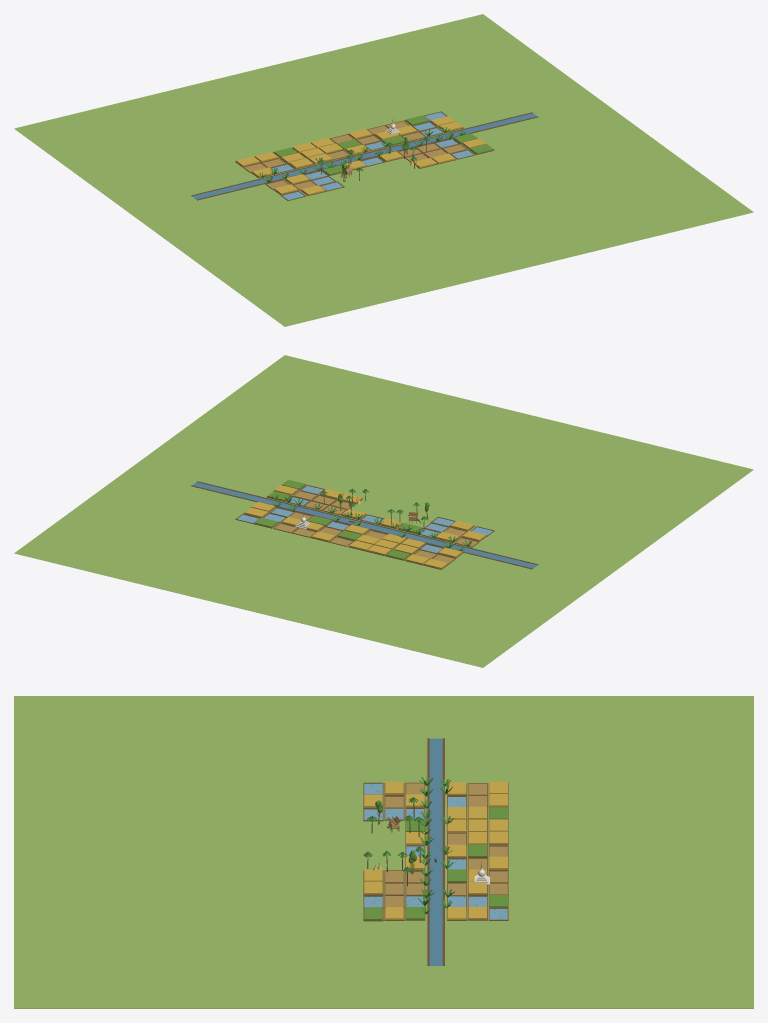
The model's file is surroundings.glb.
3 renders of one model, top to bottom at view 1: azimuth 30°, elevation 25°; view 2: azimuth 150°, elevation 25°; view 3: azimuth 270°, elevation 25°, orthographic. The views are drawn at different scales.
Visible parts, largest first — view 1: scenery; view 2: scenery; view 3: scenery.
Part boxes in pixels (left/top/right/bottom): scenery: left=14, top=14, right=753, bottom=326; scenery: left=14, top=355, right=753, bottom=667; scenery: left=14, top=696, right=753, bottom=1008.
Size of the model in its own units: 220 by 8.24 by 220.
